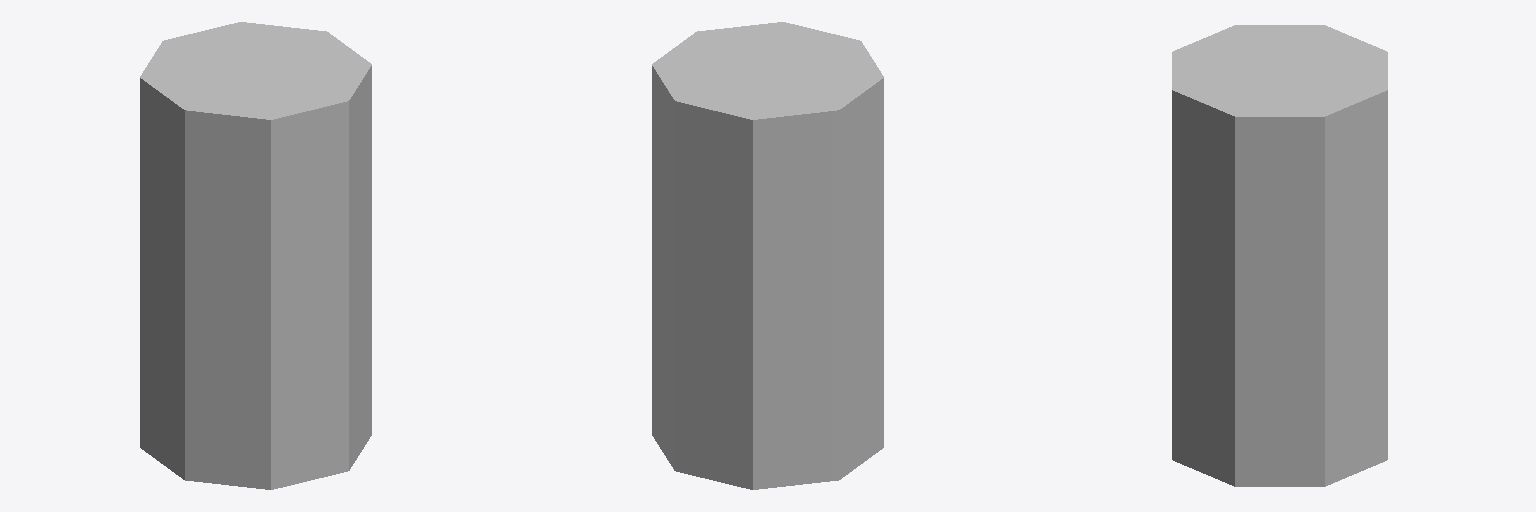
File: pcity_nodes_concrete_pillar_thin.obj
3 renders of one model, left to right at view 1: azimuth 30°, elevation 25°; view 2: azimuth 150°, elevation 25°; view 3: azimuth 270°, elevation 25°, orthographic.
Visible parts, largest first — view 1: Cylinder; view 2: Cylinder; view 3: Cylinder.
Part boxes in pixels (left/top/right/bottom): Cylinder: left=140, top=22, right=371, bottom=489; Cylinder: left=652, top=22, right=883, bottom=489; Cylinder: left=1172, top=25, right=1387, bottom=486.
Bounding box in the file's own units: 0.5308 × 1 × 0.5308.